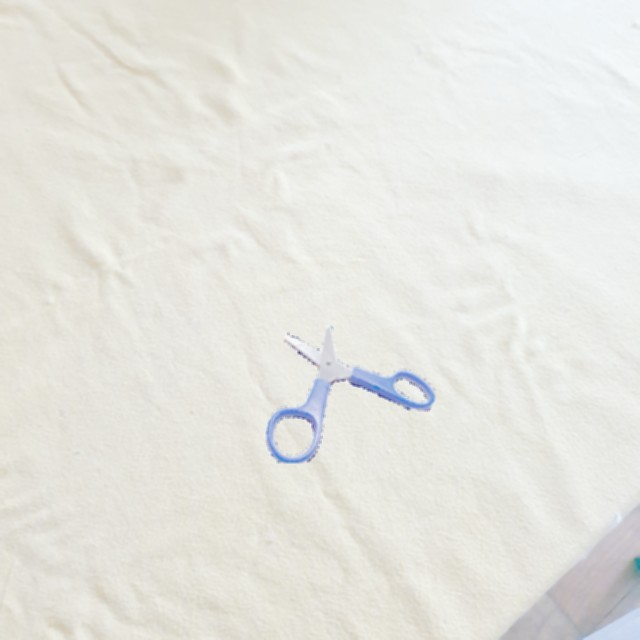scissors: (266, 325, 435, 463)
